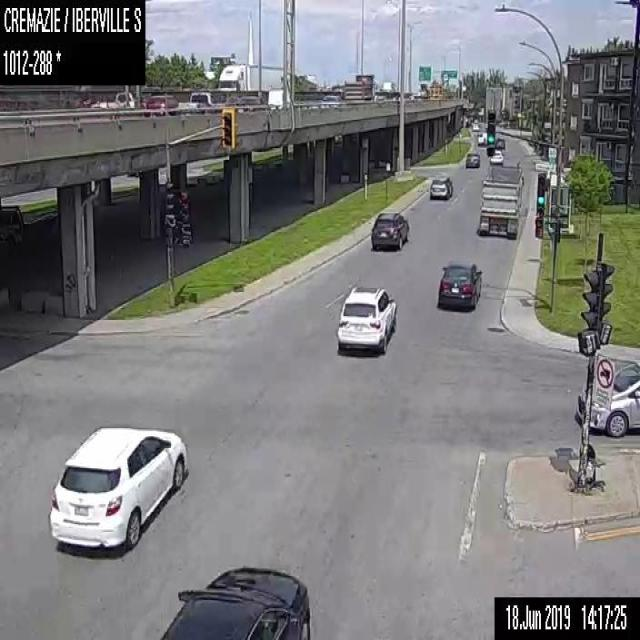bus: (429, 83, 447, 99)
vehicle: (49, 425, 189, 547), (161, 564, 311, 639), (574, 358, 639, 438), (336, 284, 398, 355), (479, 161, 524, 237), (217, 61, 284, 101), (436, 258, 481, 310), (370, 209, 408, 252), (178, 90, 226, 114), (0, 204, 24, 248), (346, 74, 378, 102), (89, 91, 135, 108), (143, 94, 179, 115), (428, 173, 452, 200), (233, 95, 269, 112), (266, 88, 292, 109), (319, 93, 344, 108), (464, 151, 481, 168), (489, 148, 504, 164), (476, 130, 487, 146), (494, 135, 505, 149), (382, 81, 395, 92), (471, 120, 479, 130), (465, 116, 473, 126), (166, 93, 167, 95)
